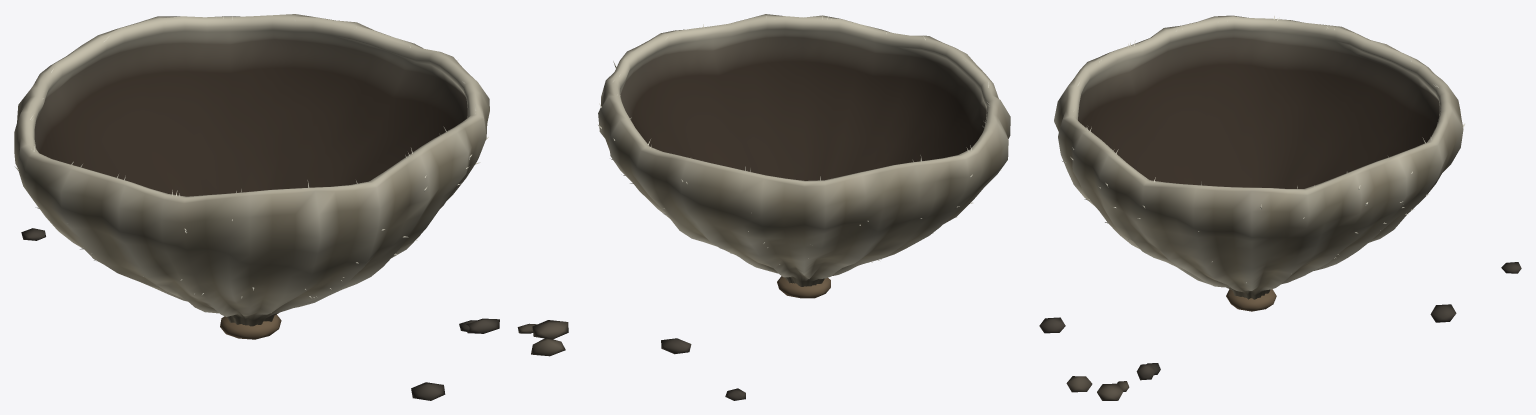
File: HazeliaCrateria.fbx
3 renders of one model, left to right at view 1: azimuth 30°, elevation 25°; view 2: azimuth 150°, elevation 25°; view 3: azimuth 270°, elevation 25°, orthographic. The views are drawn at different scales.
Parts seen in each view (by area): view 1: HazeliaCrateria; view 2: HazeliaCrateria; view 3: HazeliaCrateria.
Part boxes in pixels (<box>): HazeliaCrateria: <box>14,14,568,400</box>; HazeliaCrateria: <box>598,14,1010,400</box>; HazeliaCrateria: <box>1039,15,1521,400</box>.
Size of the model in its own units: 1.62 by 0.8041 by 1.68.
